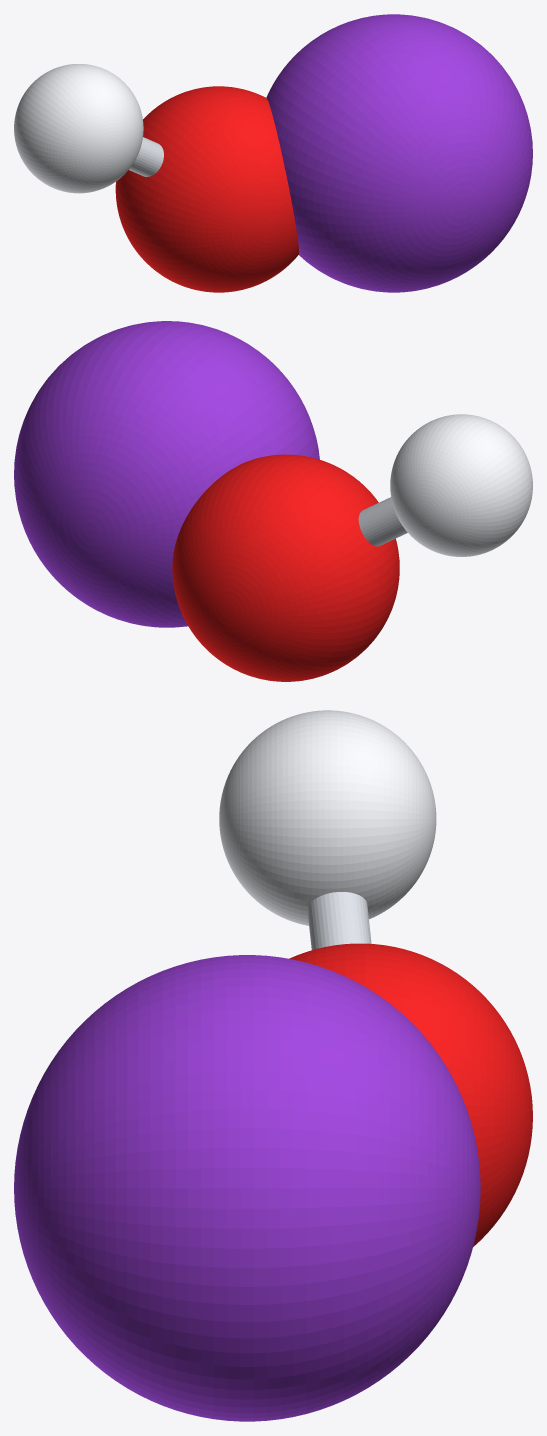
The model's file is potassium_hydroxide.glb.
The picture shows the model from 3 angles, top to bottom: view 1: azimuth 30°, elevation 25°; view 2: azimuth 150°, elevation 25°; view 3: azimuth 270°, elevation 25°; orthographic projection. The views are drawn at different scales.
Parts seen in each view (by area): view 1: Potassium_K, Oxygen_O, Hydrogen_H, O-H_Bond; view 2: Potassium_K, Oxygen_O, Hydrogen_H, O-H_Bond; view 3: Potassium_K, Hydrogen_H, Oxygen_O, O-H_Bond.
Boxes of the visible parts, x1,y1,x2,y2 form: Potassium_K: [266, 14, 532, 292]; Oxygen_O: [115, 86, 298, 292]; Hydrogen_H: [14, 64, 143, 193]; O-H_Bond: [129, 137, 163, 176]; Potassium_K: [14, 321, 319, 627]; Oxygen_O: [172, 454, 399, 681]; Hydrogen_H: [390, 414, 532, 556]; O-H_Bond: [358, 497, 407, 546]; Potassium_K: [14, 955, 480, 1421]; Hydrogen_H: [219, 710, 436, 925]; Oxygen_O: [289, 943, 532, 1246]; O-H_Bond: [307, 892, 371, 950].
Size of the model in its own units: 2.25 by 1.21 by 1.29.
